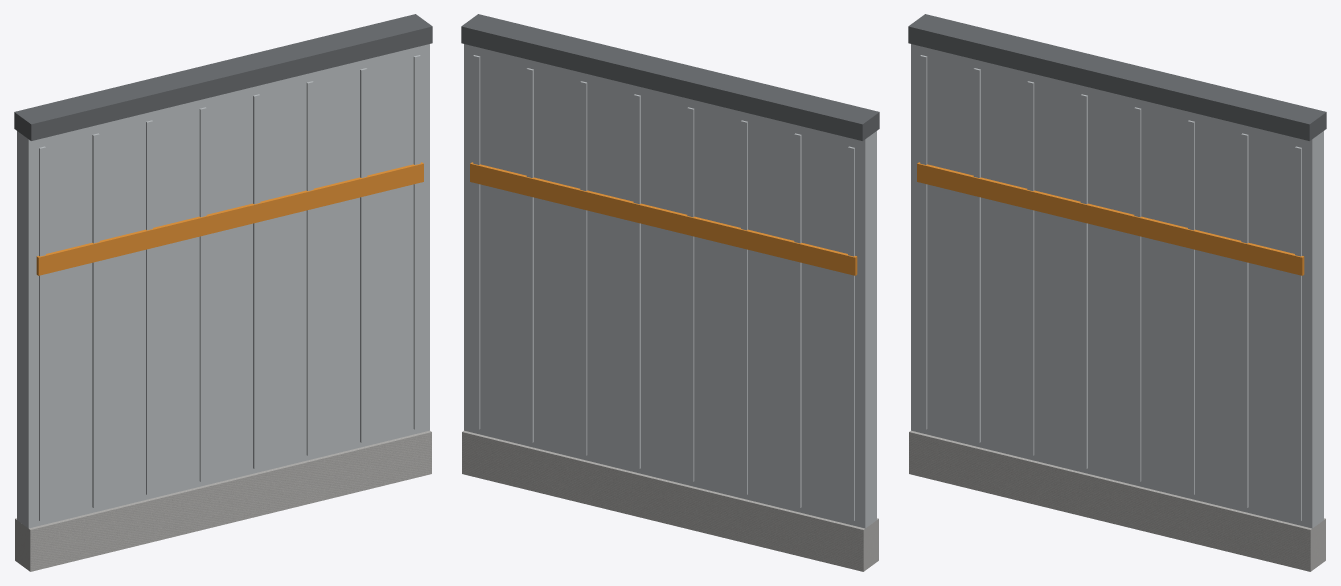
File: tool-hire-depot-and-plant-yard-tool-hire-depot-and-pla-1616e349__35289.glb
The picture shows the model from 3 angles, left to right: view 1: azimuth 30°, elevation 25°; view 2: azimuth 150°, elevation 25°; view 3: azimuth 330°, elevation 25°; orthographic projection.
Visible parts, largest first — view 1: tool-hire-depot-and-plant-yard-depot-wall-module; view 2: tool-hire-depot-and-plant-yard-depot-wall-module; view 3: tool-hire-depot-and-plant-yard-depot-wall-module.
Part boxes in pixels (x1=…): tool-hire-depot-and-plant-yard-depot-wall-module: x1=14, y1=14, x2=432, y2=571; tool-hire-depot-and-plant-yard-depot-wall-module: x1=461, y1=14, x2=879, y2=571; tool-hire-depot-and-plant-yard-depot-wall-module: x1=908, y1=14, x2=1326, y2=571.
Bounding box in the file's own units: 3 × 3.2 × 0.2201.
Materials: 4 (1 with a texture image).
